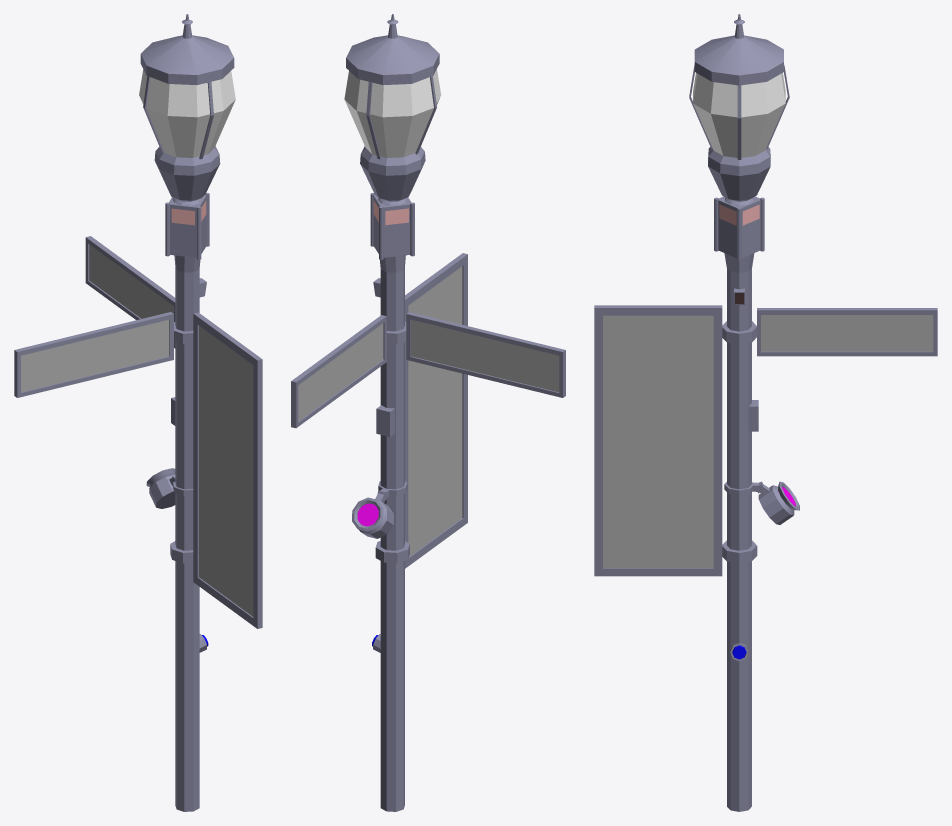
File: verizon_lamp.fbx
3 renders of one model, left to right at view 1: azimuth 30°, elevation 25°; view 2: azimuth 150°, elevation 25°; view 3: azimuth 270°, elevation 25°, orthographic.
Visible parts, largest first — view 1: vlamp_post, sign_banner, dooDads, sign_street_A, vlamp_glass, sign_street_B; view 2: vlamp_post, sign_banner, dooDads, sign_street_A, vlamp_glass, sign_street_B; view 3: sign_banner, vlamp_post, dooDads, sign_street_B, vlamp_glass.
Part boxes in pixels (bbox=[...]): vlamp_post: bbox=[140, 14, 234, 811]; sign_banner: bbox=[199, 326, 253, 616]; dooDads: bbox=[14, 236, 262, 652]; sign_street_A: bbox=[21, 319, 169, 392]; vlamp_glass: bbox=[139, 69, 235, 157]; sign_street_B: bbox=[89, 244, 173, 318]; vlamp_post: bbox=[346, 14, 439, 811]; sign_banner: bbox=[408, 266, 462, 556]; dooDads: bbox=[291, 253, 565, 652]; sign_street_A: bbox=[411, 319, 559, 392]; vlamp_glass: bbox=[344, 69, 440, 157]; sign_street_B: bbox=[298, 323, 383, 421]; sign_banner: bbox=[603, 315, 713, 567]; vlamp_post: bbox=[689, 14, 789, 811]; dooDads: bbox=[594, 288, 937, 661]; sign_street_B: bbox=[761, 315, 933, 351]; vlamp_glass: bbox=[693, 73, 785, 157].
Bounding box in the file's own units: 172 × 606 × 238.
